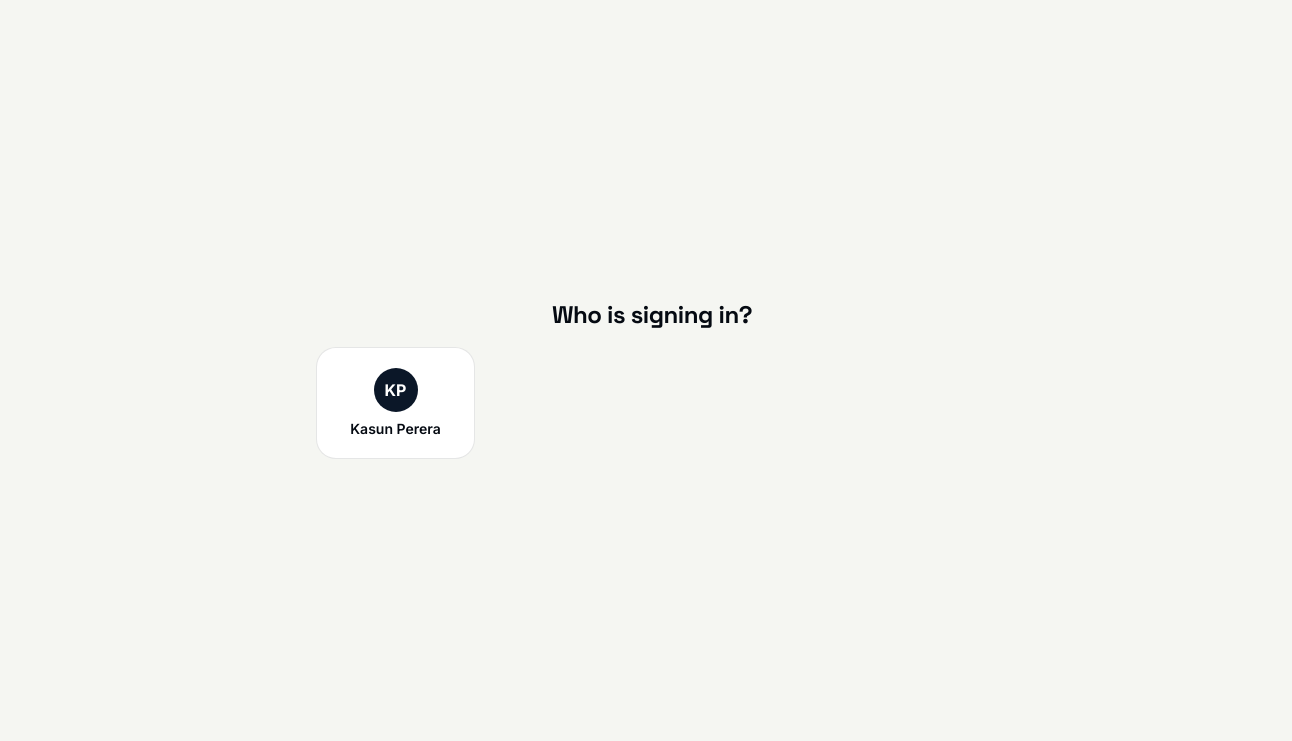
Test: SignInPage › shows a translated error for a wrong PIN and clears the pad
Step 1. Click the button "KP Kasun Perera" → (396, 403), box x1=316 y1=347 x2=475 y2=459
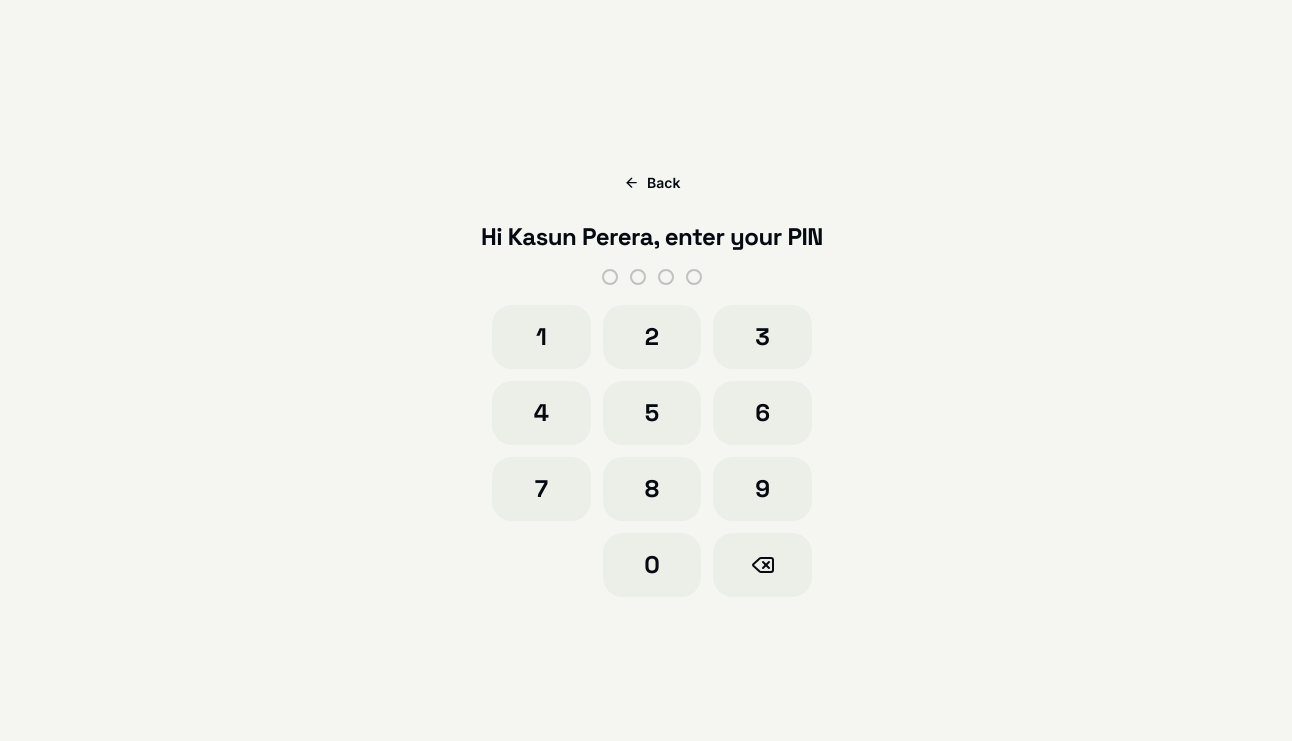
Step 2. Type keys "1112"
(page scrolled)
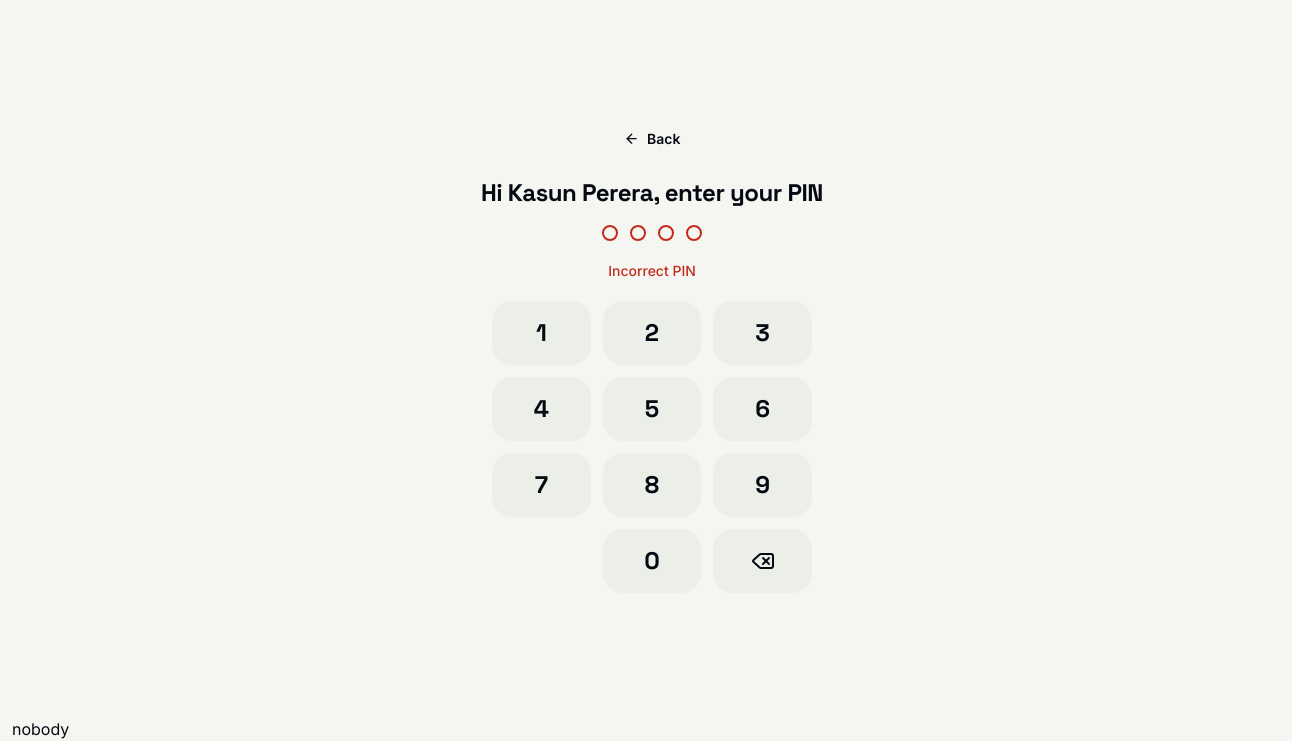
Check: the text with test id "who" reads "nobody", box x1=12 y1=719 x2=69 y2=739
Check: the message "Incorrect PIN" is shown, box x1=608 y1=261 x2=696 y2=281
